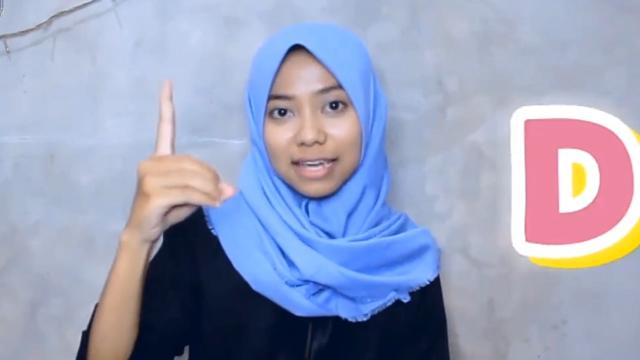D: (121, 78, 232, 238)
